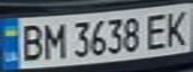3: (69, 18, 93, 58), (106, 16, 127, 55)
6: (90, 17, 109, 57)
8: (121, 14, 145, 53)
B: (15, 20, 48, 62)
E: (142, 10, 172, 51)
K: (160, 7, 193, 47)
M: (39, 19, 69, 61)
